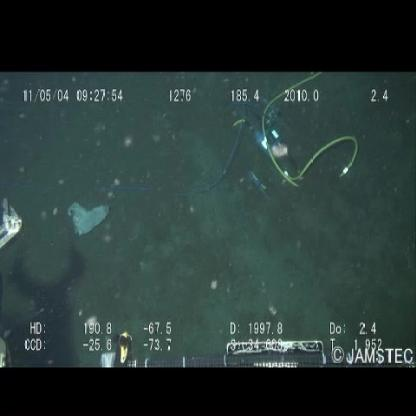Rov: (227, 91, 362, 200), (96, 330, 416, 366)
Rác: (64, 197, 115, 237)
